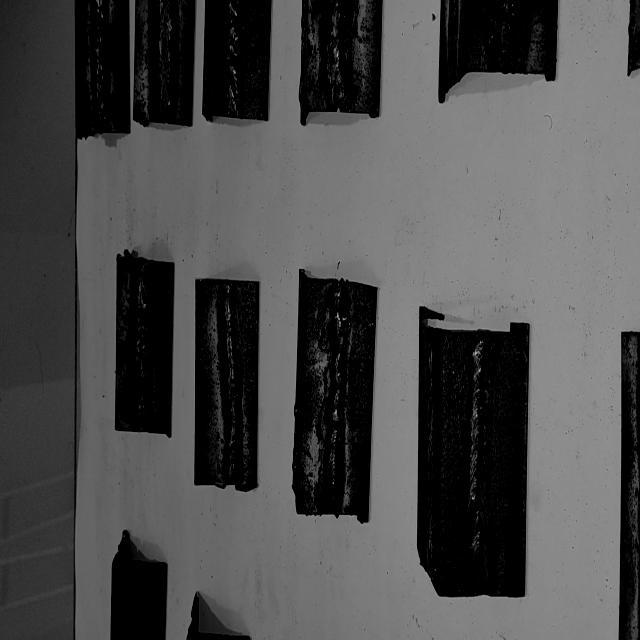Defect: (495, 0, 522, 72), (95, 0, 106, 129)
Welding Line: (466, 336, 489, 594), (326, 286, 349, 510), (220, 283, 238, 483), (134, 261, 150, 428), (331, 0, 346, 107), (158, 0, 172, 110), (226, 0, 238, 113), (95, 0, 105, 129)
Workpiece: (412, 302, 536, 602), (287, 262, 380, 522), (192, 271, 262, 491), (434, 0, 562, 109), (111, 251, 177, 436), (297, 0, 384, 127), (201, 0, 273, 123), (130, 0, 196, 130), (75, 0, 131, 142)
